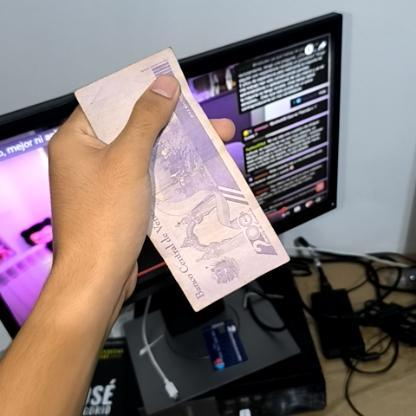ten-back-vef: (74, 47, 288, 311)
